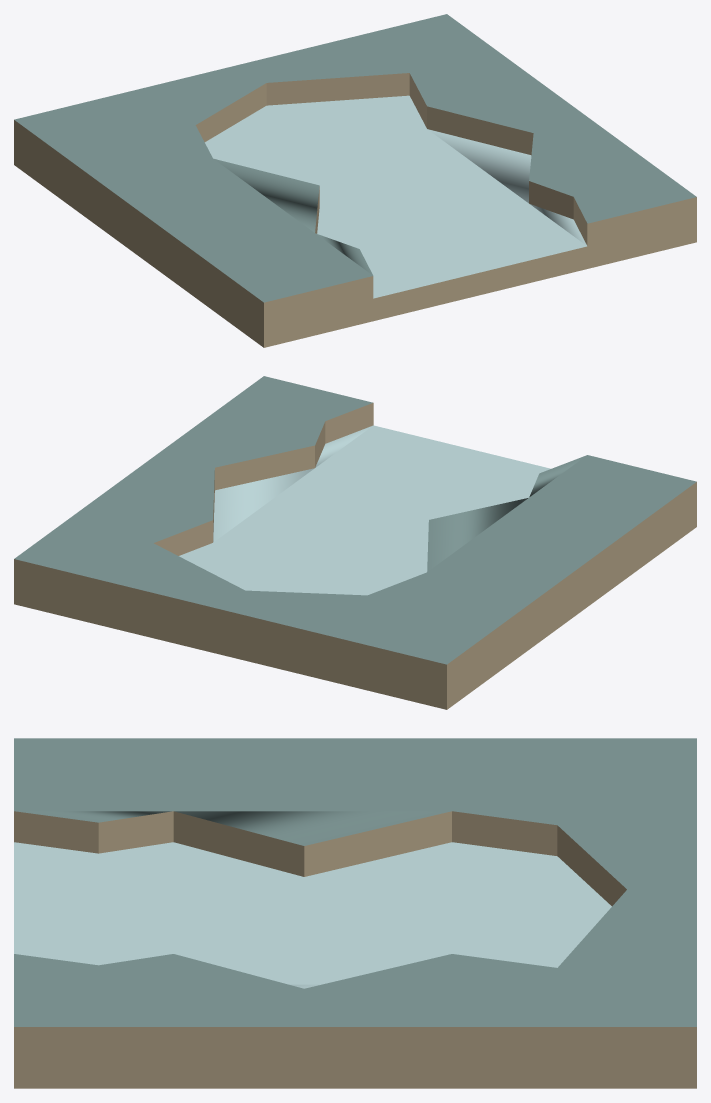
The model's file is Nature River 10.fbx.
The picture shows the model from 3 angles, top to bottom: view 1: azimuth 30°, elevation 25°; view 2: azimuth 150°, elevation 25°; view 3: azimuth 270°, elevation 25°; orthographic projection. The views are drawn at different scales.
Visible parts, largest first — view 1: Nature River 10; view 2: Nature River 10; view 3: Nature River 10.
Part boxes in pixels (<box>): Nature River 10: <box>14,14,696,347</box>; Nature River 10: <box>14,376,696,709</box>; Nature River 10: <box>14,738,696,1088</box>.
Size of the model in its own units: 3 by 0.3 by 3.
